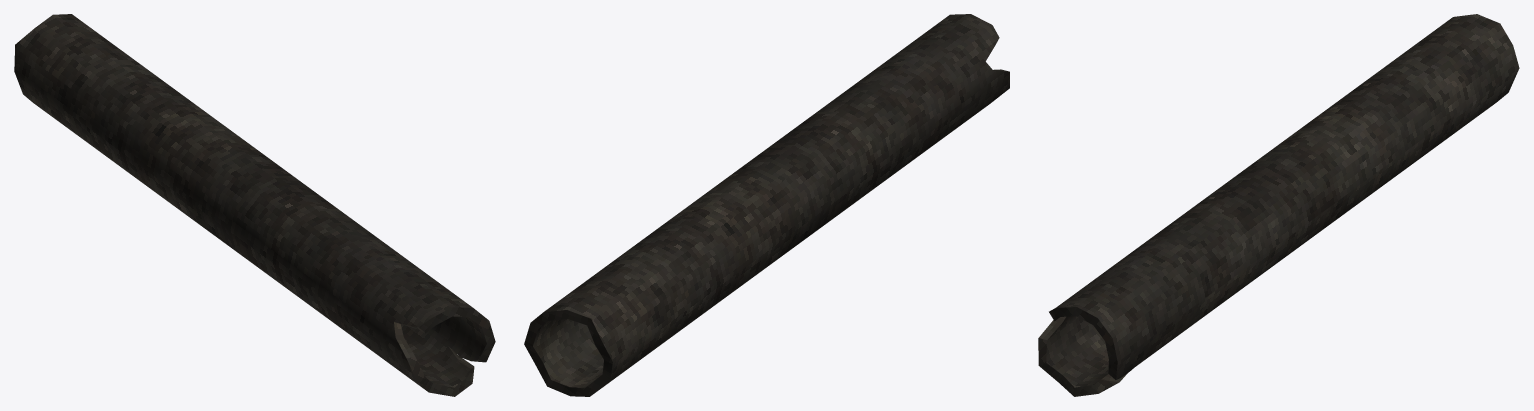
Rendered from pipe_mx_2.glb.
3 views of the same model, side by side, from view 1: azimuth 30°, elevation 25°; view 2: azimuth 150°, elevation 25°; view 3: azimuth 330°, elevation 25° (orthographic).
Parts seen in each view (by area): view 1: pipe_mx_2; view 2: pipe_mx_2; view 3: pipe_mx_2.
Part boxes in pixels (box(x1,y1,x2,y2)): pipe_mx_2: box(14, 14, 495, 396); pipe_mx_2: box(524, 14, 1009, 396); pipe_mx_2: box(1038, 14, 1519, 396).
Size of the model in its own units: 0.05 by 0.05 by 0.4162.
Materials: 1 (1 with a texture image).
